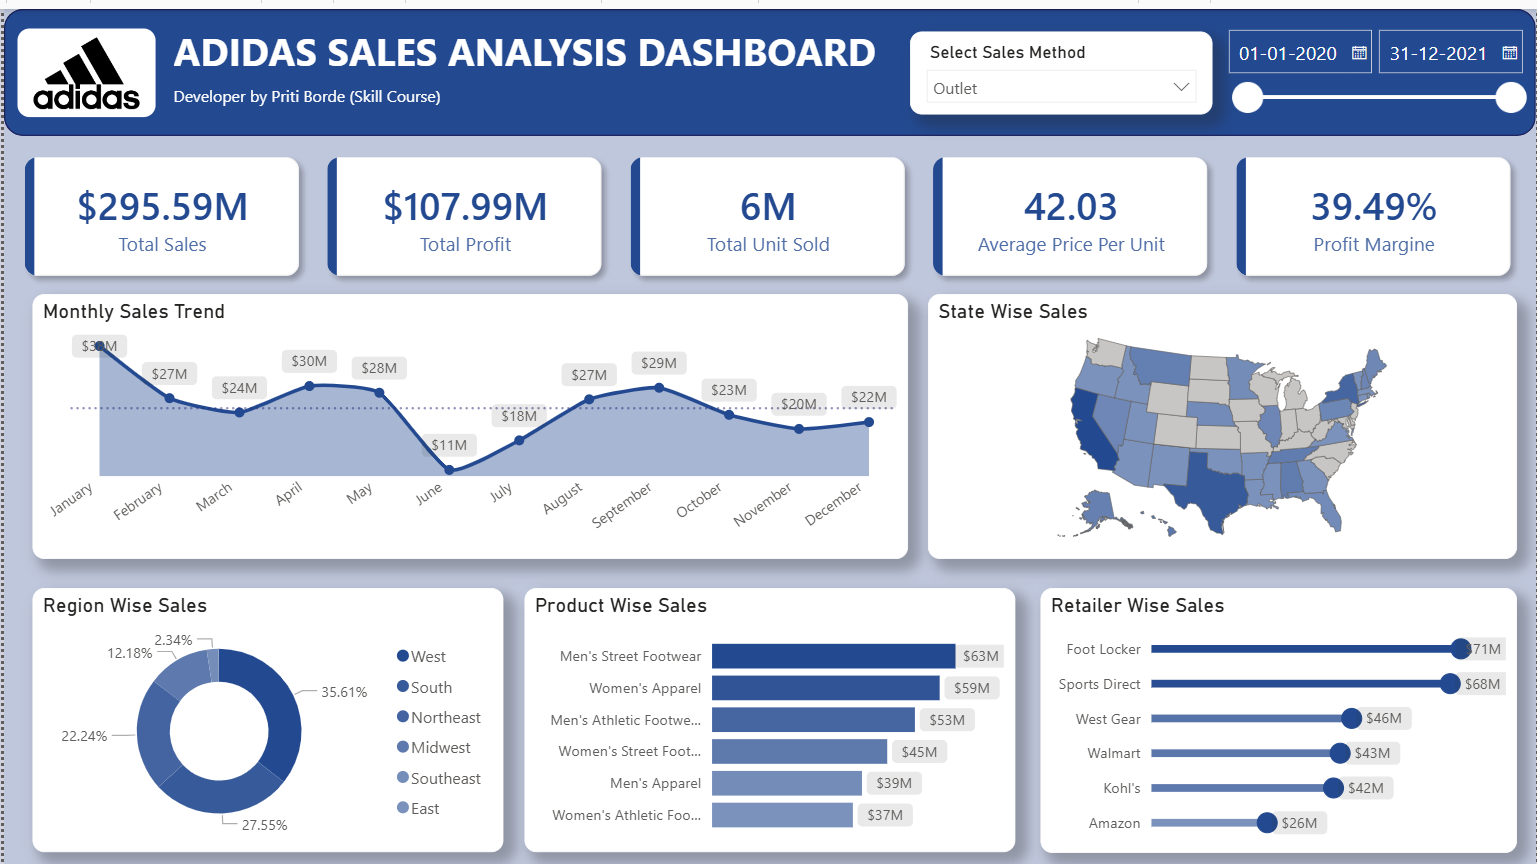

The dashboard page shown, as its layout file describes it:
{"tool":"powerbi","page":{"name":"Page 1","canvas":[1280,720],"ordinal":0},"visuals":[{"type":"shape","box":[0,0,1279.5,106],"z":0},{"type":"image","box":[11,16.5,115.3,74.1],"z":1000},{"type":"cardVisual","fields":{"Data":["KPIs.Total Sales","KPIs.Total Profit","KPIs.Total Unit Sold","KPIs.Average Price Per Unit","KPIs.Profit Margine"]},"box":[0,106,1279.5,133.3],"z":2000},{"type":"textbox","box":[136.3,7.6,619.3,83.3],"z":3000},{"type":"areaChart","title":"Monthly Sales Trend","fields":{"Y":["KPIs.Total Sales"],"Category":["Dataset.Invoice Date.Variation.Date Hierarchy.Month"]},"box":[24.3,238.6,731.4,221.4],"z":4000},{"type":"shapeMap","title":"State Wise Sales","fields":{"Value":["KPIs.Total Sales"],"Category":["Dataset.State"]},"box":[772.2,237.7,492.1,221.1],"z":5000},{"type":"donutChart","title":"Region Wise Sales","fields":{"Y":["KPIs.Total Sales"],"Category":["Dataset.Region"]},"box":[24.2,483,407.3,221.1],"z":6000},{"type":"barChart","title":"Product Wise Sales","fields":{"Y":["KPIs.Total Sales"],"Category":["Dataset.Product"]},"box":[446.7,483,408.8,221.1],"z":7000},{"type":"barChart","title":"Retailer Wise Sales","fields":{"Y":["KPIs.Total Sales"],"Category":["Dataset.Retailer"]},"box":[866.1,483,398.2,221.1],"z":8000},{"type":"slicer","fields":{"Values":["Dataset.Sales Method"]},"box":[757.1,18.2,252.9,69.7],"z":9000},{"type":"slicer","fields":{"Values":["Dataset.Invoice Date"]},"box":[1010,7.6,269.5,98.4],"z":10000},{"type":"textbox","box":[136.3,57.5,561.8,33.3],"z":11000}]}

Visuals, with their boxes in screenshot pixels (x1, y1, x2, y2), scaled from the page's 1280x720 canvas onto the 1537x864 screenshot:
shape: [left=0, top=0, right=1536, bottom=127]
image: [left=13, top=20, right=152, bottom=109]
cardVisual - KPIs.Total Sales x KPIs.Total Profit: [left=0, top=127, right=1536, bottom=287]
textbox: [left=164, top=9, right=907, bottom=109]
"Monthly Sales Trend" areaChart: [left=29, top=286, right=907, bottom=552]
"State Wise Sales" shapeMap: [left=927, top=285, right=1518, bottom=551]
"Region Wise Sales" donutChart: [left=29, top=580, right=518, bottom=845]
"Product Wise Sales" barChart: [left=536, top=580, right=1027, bottom=845]
"Retailer Wise Sales" barChart: [left=1040, top=580, right=1518, bottom=845]
slicer - Dataset.Sales Method: [left=909, top=22, right=1213, bottom=105]
slicer - Dataset.Invoice Date: [left=1213, top=9, right=1536, bottom=127]
textbox: [left=164, top=69, right=838, bottom=109]
